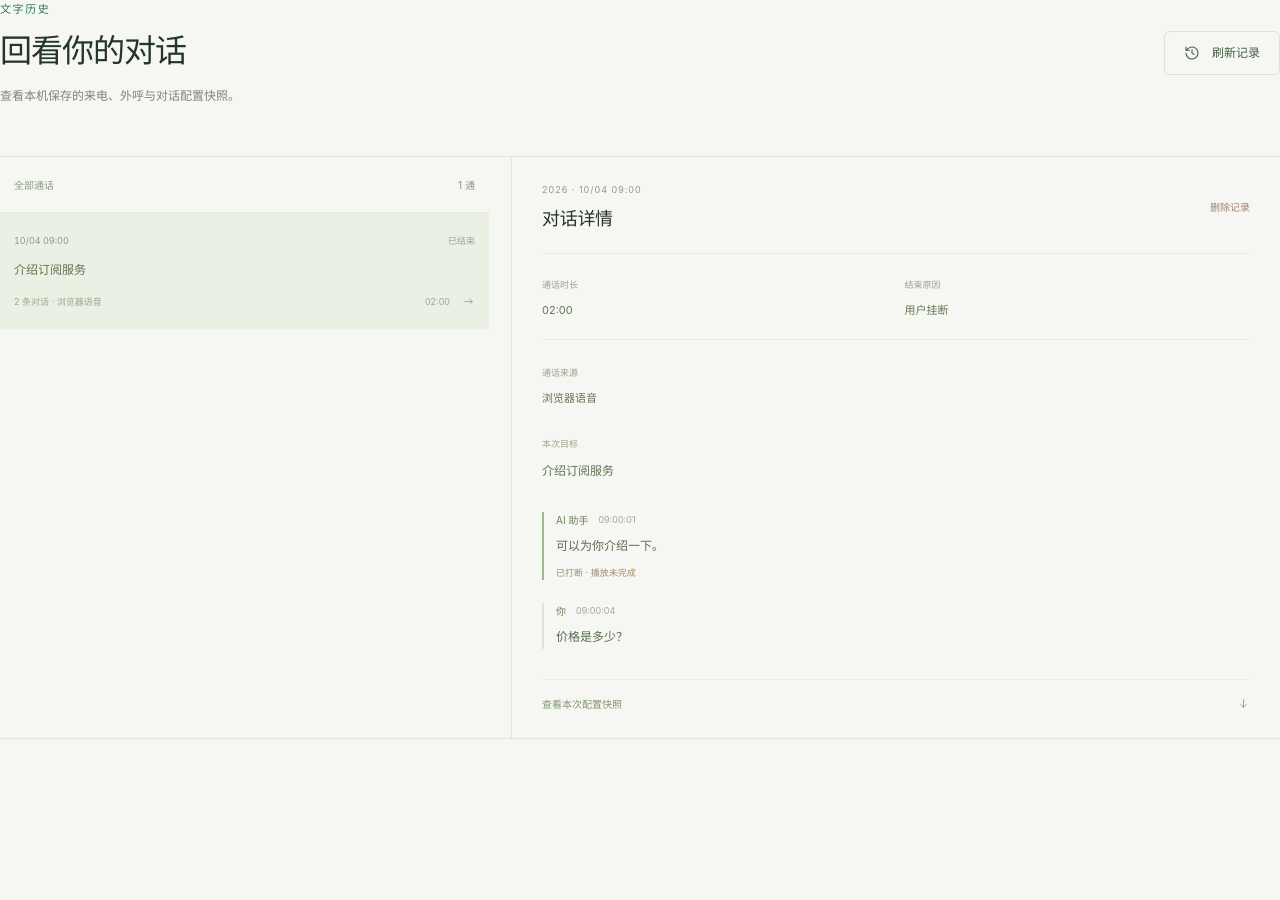
it: 本机文字历史 › 服务端 409 删除失败保留记录，显示错误并允许刷新
Check: the text "价格是多少？" is shown, box [556, 629, 628, 644]
Click the button "删除记录" at (1230, 207), box [1210, 194, 1250, 219]
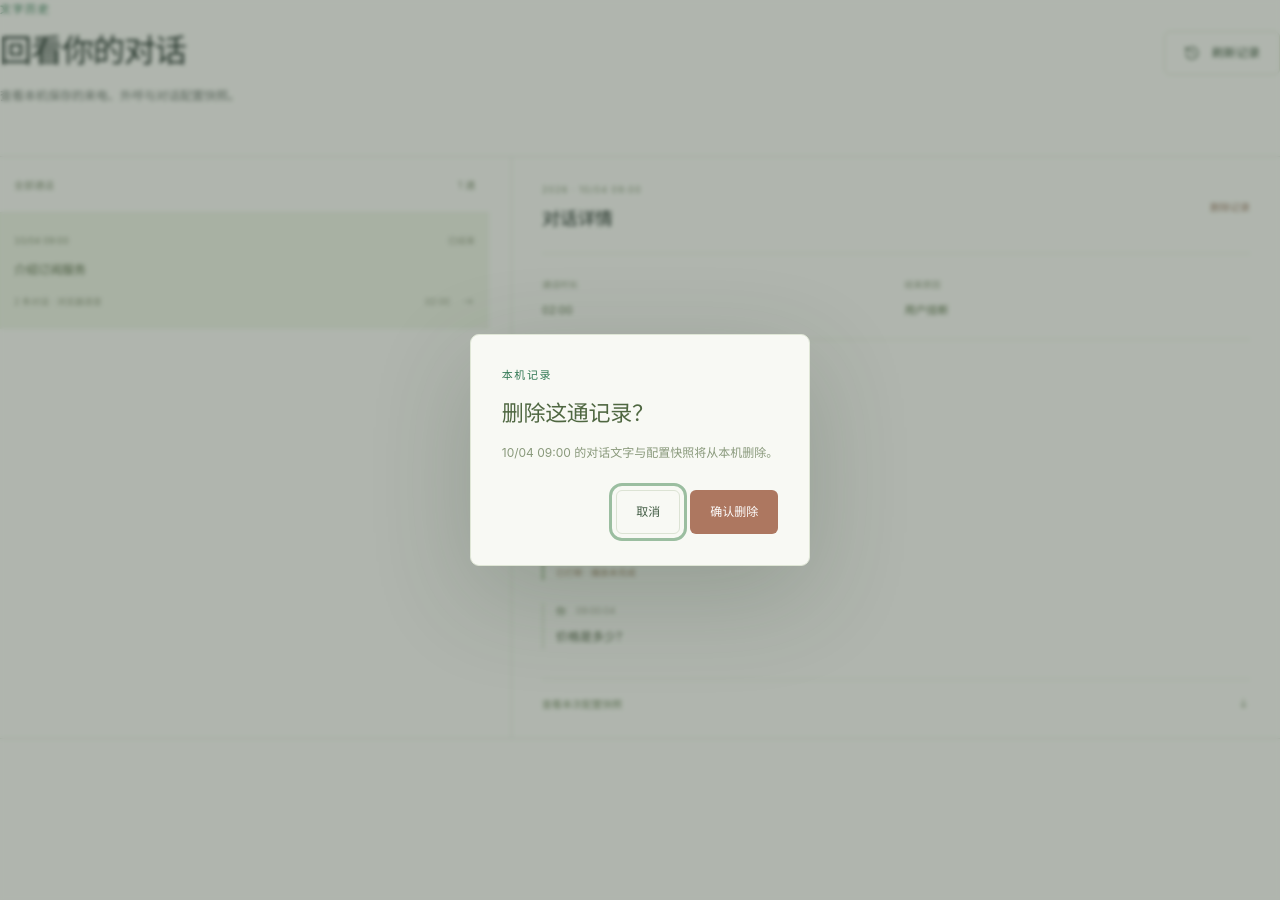
Click the button "确认删除" at (734, 512), box [690, 490, 778, 534]
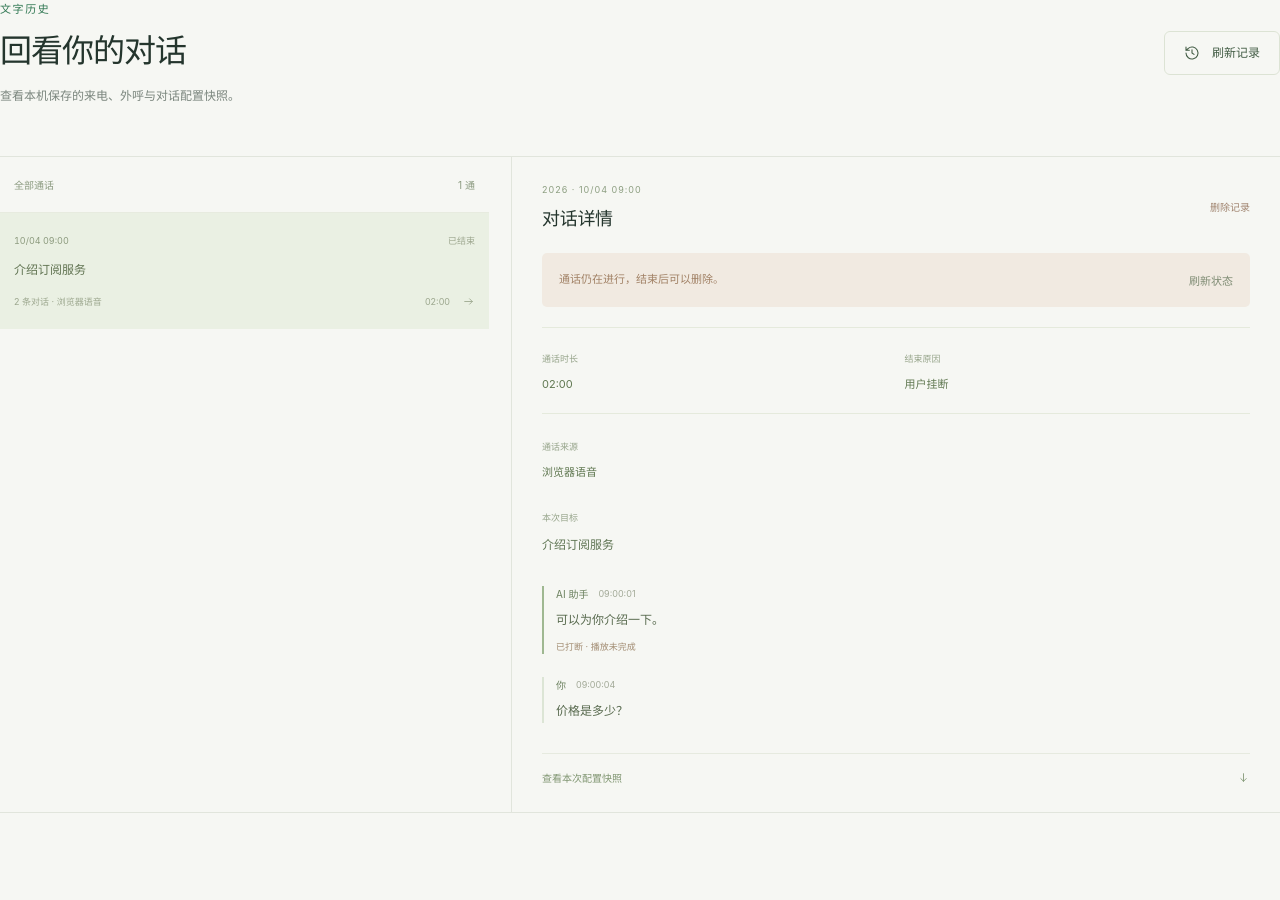
Check: the message shows "通话仍在进行", box [559, 272, 724, 286]
Check: the button "刷新状态" is enabled, box [1189, 267, 1233, 293]
Check: the dialog is gone
